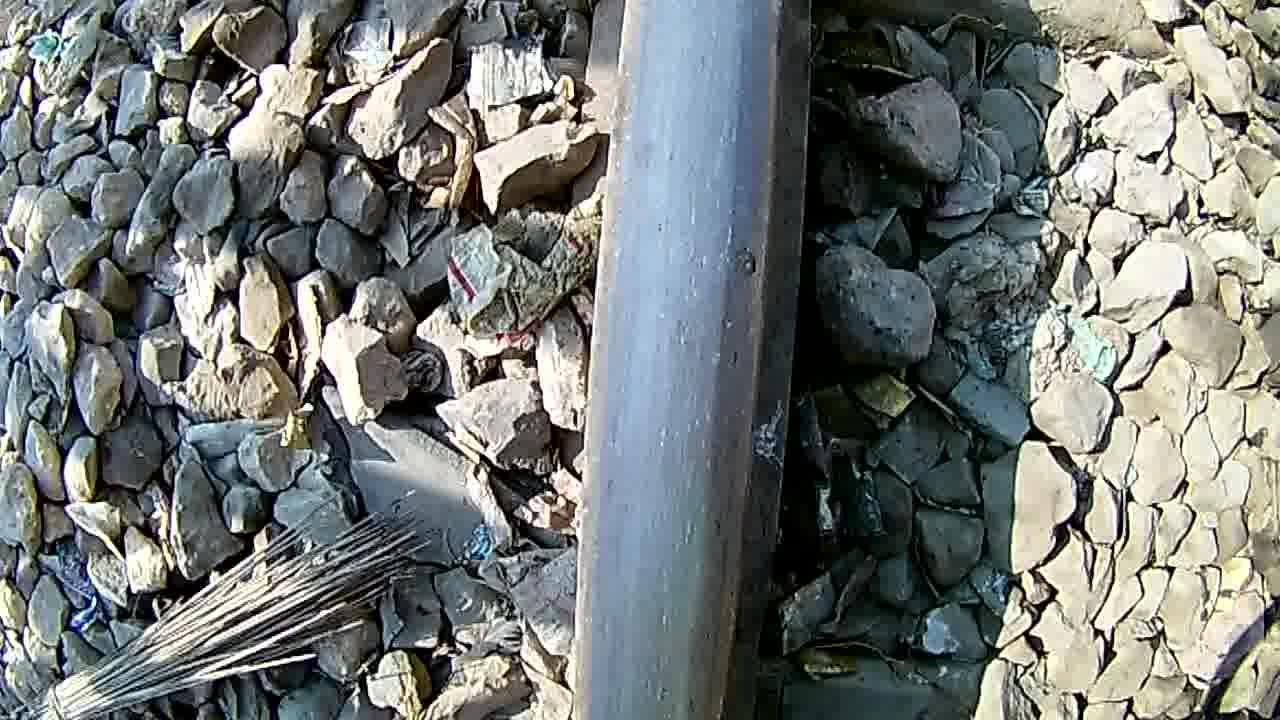crack: (582, 0, 792, 720)
